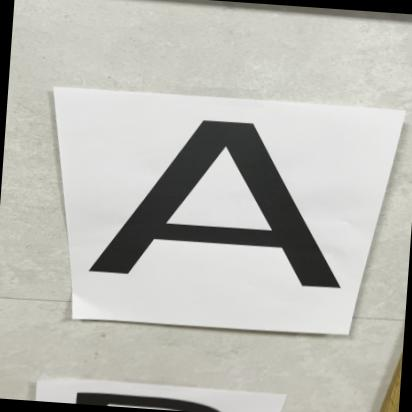seat: (96, 96, 358, 310)
